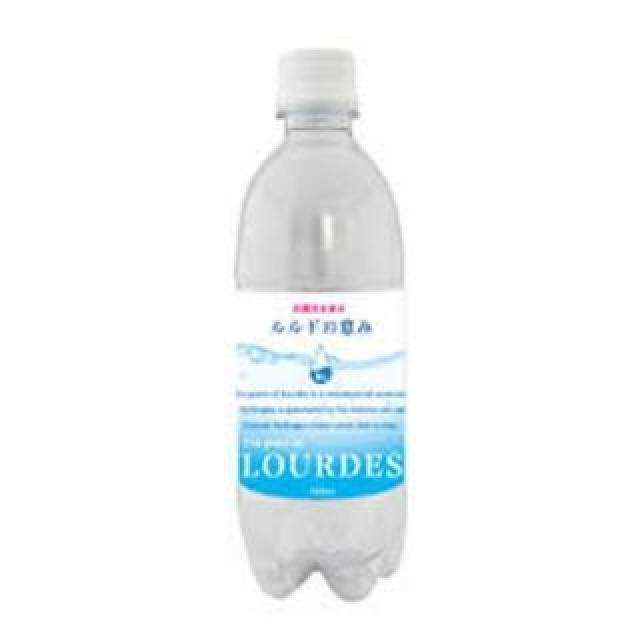Pet_Bottle: (237, 47, 417, 605)
